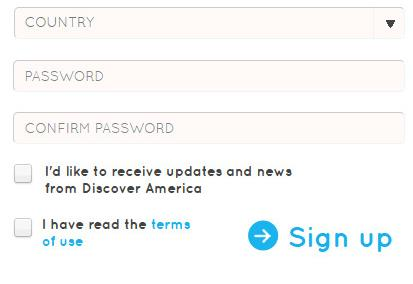checkbox: (13, 163, 33, 186), (13, 218, 35, 238)
checkbox_with_label: (10, 162, 293, 197), (11, 216, 193, 247)
field: (13, 59, 407, 94), (13, 7, 406, 40), (13, 113, 407, 145)
